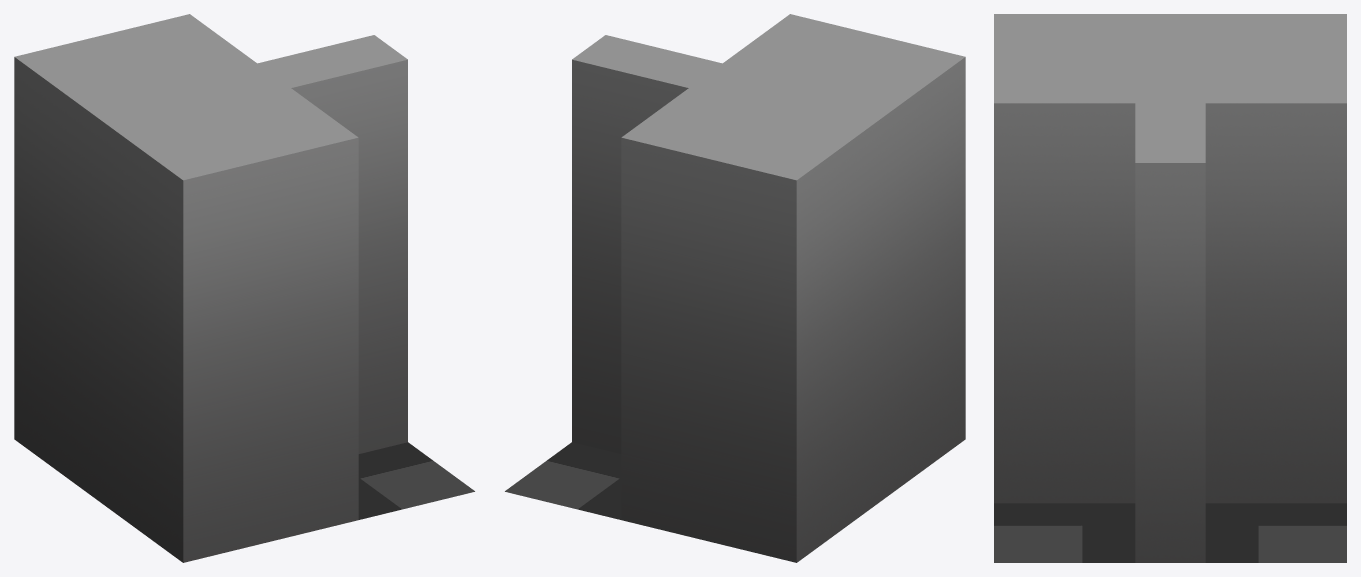
The model's file is SM_MuurBuitenT.fbx.
3 renders of one model, left to right at view 1: azimuth 30°, elevation 25°; view 2: azimuth 150°, elevation 25°; view 3: azimuth 270°, elevation 25°, orthographic. The views are drawn at different scales.
Parts seen in each view (by area): view 1: SM_muurBuitenT; view 2: SM_muurBuitenT; view 3: SM_muurBuitenT.
Part boxes in pixels (box(x1,y1,x2,y2)): SM_muurBuitenT: box(14, 14, 474, 562); SM_muurBuitenT: box(505, 14, 965, 562); SM_muurBuitenT: box(994, 14, 1346, 562).
Size of the model in its own units: 200 by 250 by 200.
